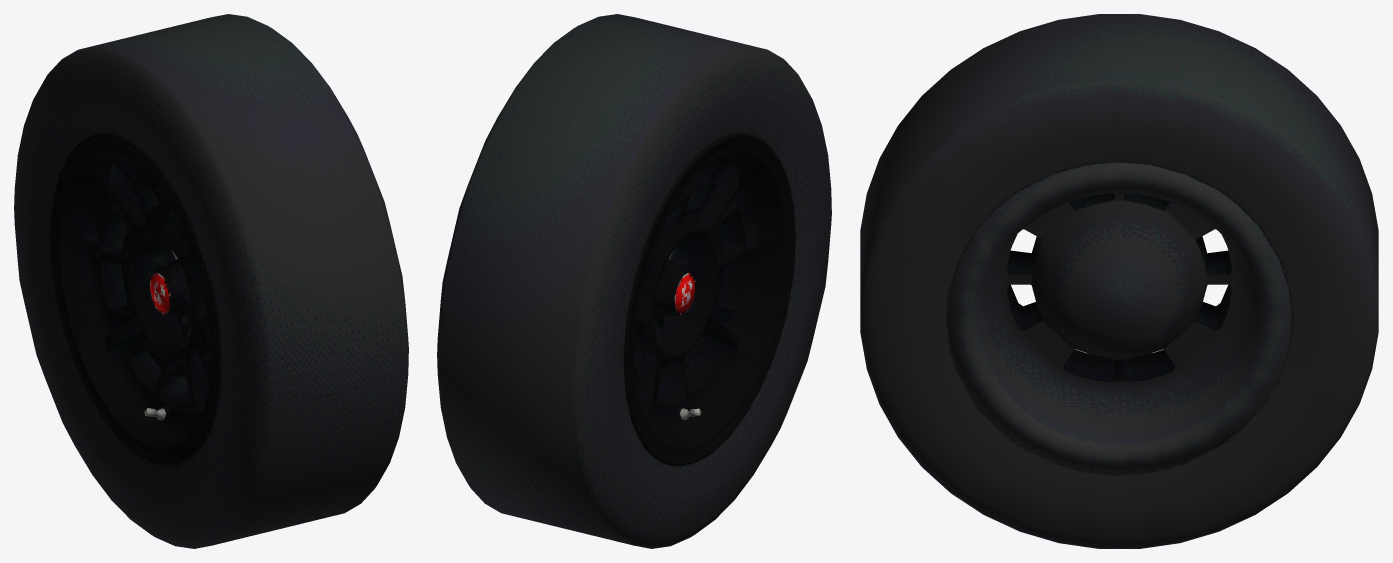
Rendered from fiat_131_abarth_wheel_front_left.glb.
3 views of the same model, side by side, from view 1: azimuth 30°, elevation 25°; view 2: azimuth 150°, elevation 25°; view 3: azimuth 270°, elevation 25° (orthographic).
Parts seen in each view (by area): view 1: Fiat131_Wheel_front_left; view 2: Fiat131_Wheel_front_left; view 3: Fiat131_Wheel_front_left.
Part boxes in pixels (x1=…): Fiat131_Wheel_front_left: x1=14, y1=14, x2=408, y2=548; Fiat131_Wheel_front_left: x1=437, y1=14, x2=831, y2=548; Fiat131_Wheel_front_left: x1=860, y1=14, x2=1378, y2=548.
Bounding box in the file's own units: 0.2102 × 0.5905 × 0.5905.
Materials: 1 (1 with a texture image).
